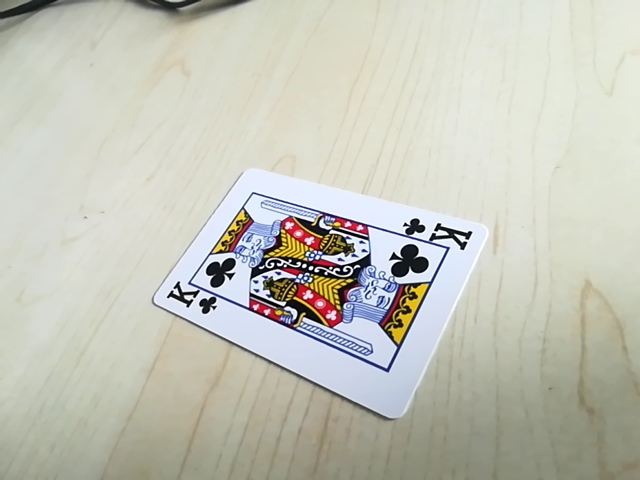mh k: (395, 217, 479, 248), (162, 289, 220, 318)
